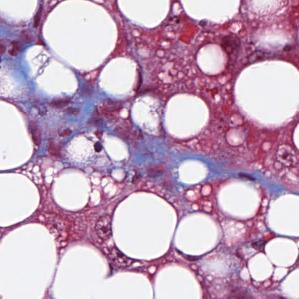ballooning: (129, 89, 171, 139)
